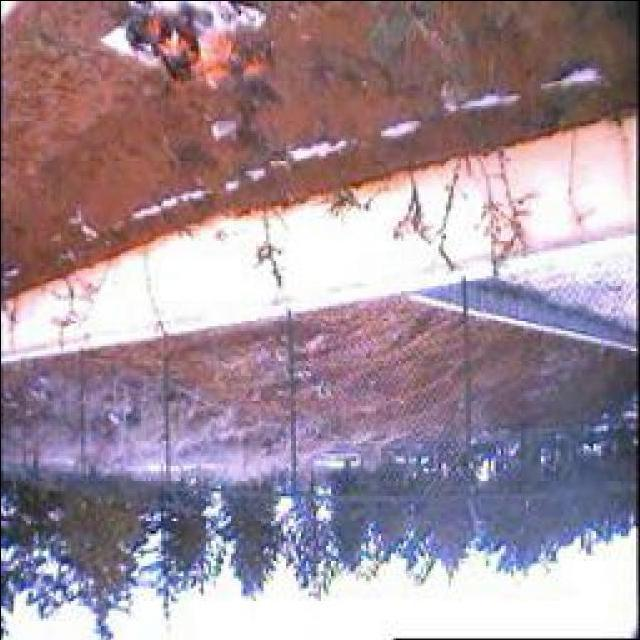Fire: (123, 8, 270, 90)
